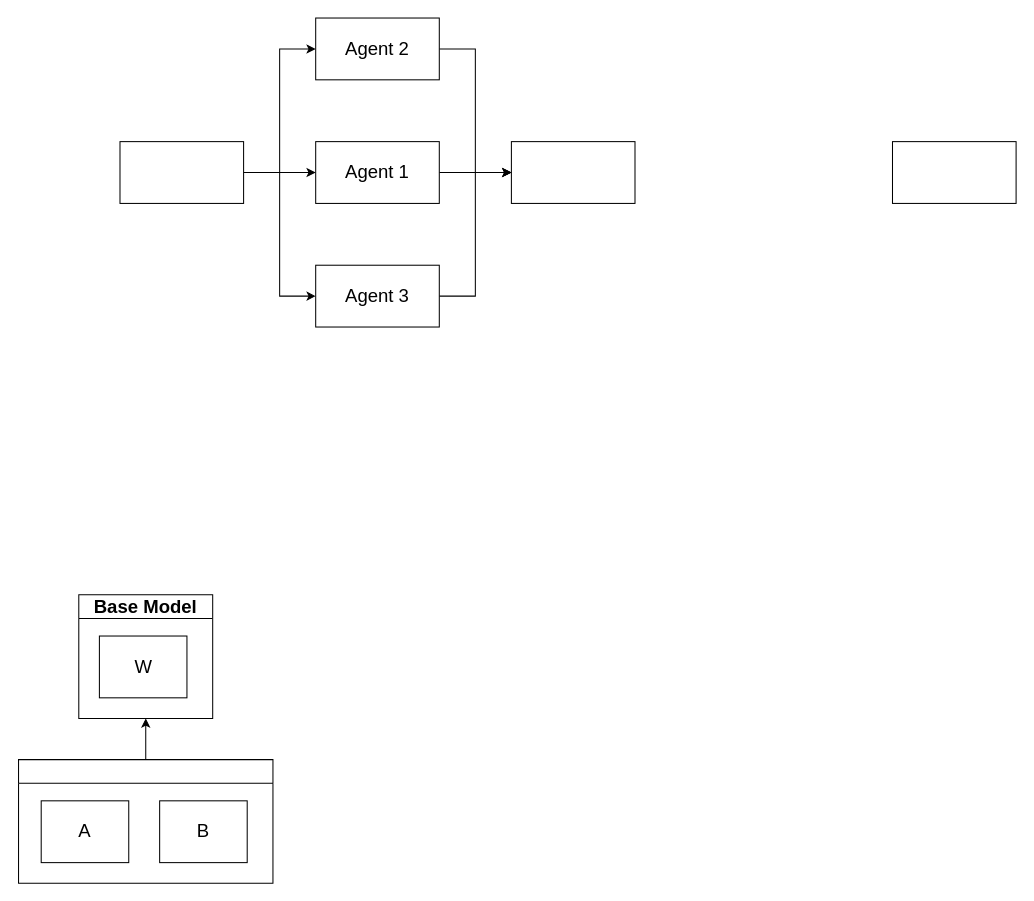
This 1034x901 diagram has some shape labels left out. The centre of each missing label's shape, as x and y in pixels:
"Adaptor" goes at point 145,821.
"Agent 4" goes at point 953,172.
"Prompt" goes at point 181,172.
"Response" goes at point 572,172.
